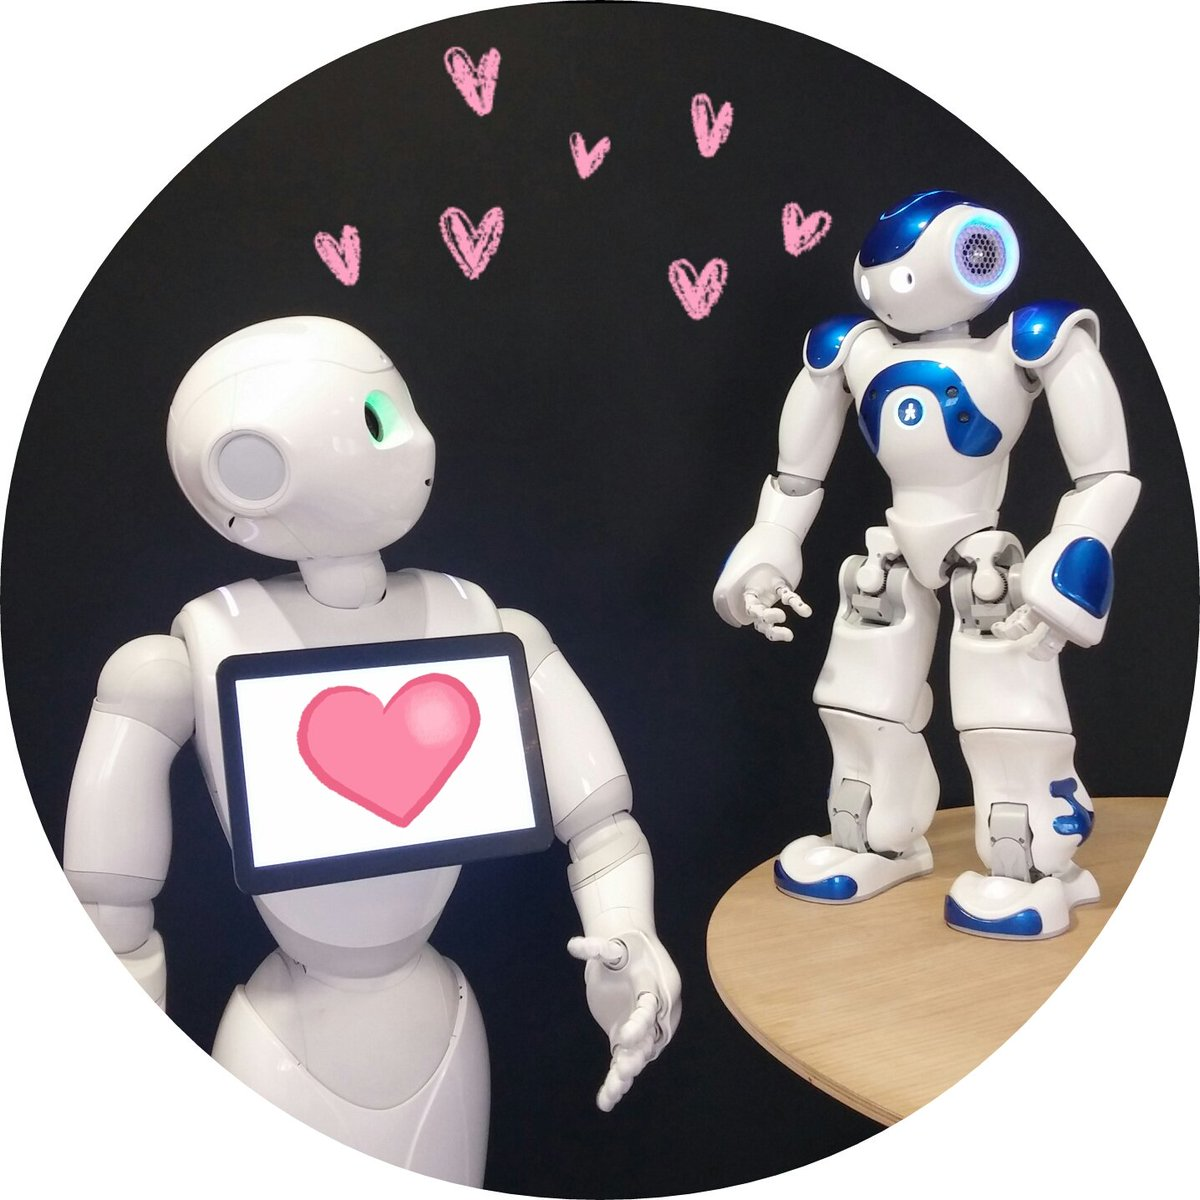nao: (688, 186, 1200, 933)
